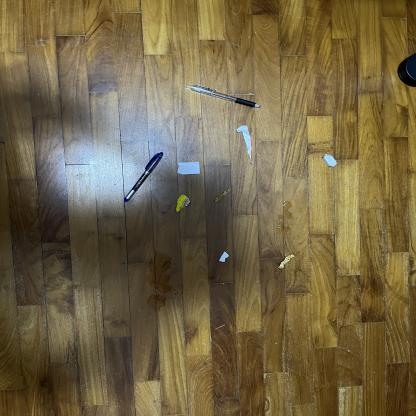dirty: (236, 125, 254, 164), (177, 162, 200, 176), (278, 254, 296, 269), (214, 188, 231, 203), (176, 194, 190, 212), (219, 252, 229, 262)
liquid: (147, 250, 171, 291), (147, 292, 166, 311), (276, 200, 294, 219), (277, 220, 291, 235), (185, 254, 193, 262), (173, 289, 180, 296), (209, 274, 214, 280), (174, 272, 176, 274)
mark: (214, 324, 226, 330)
